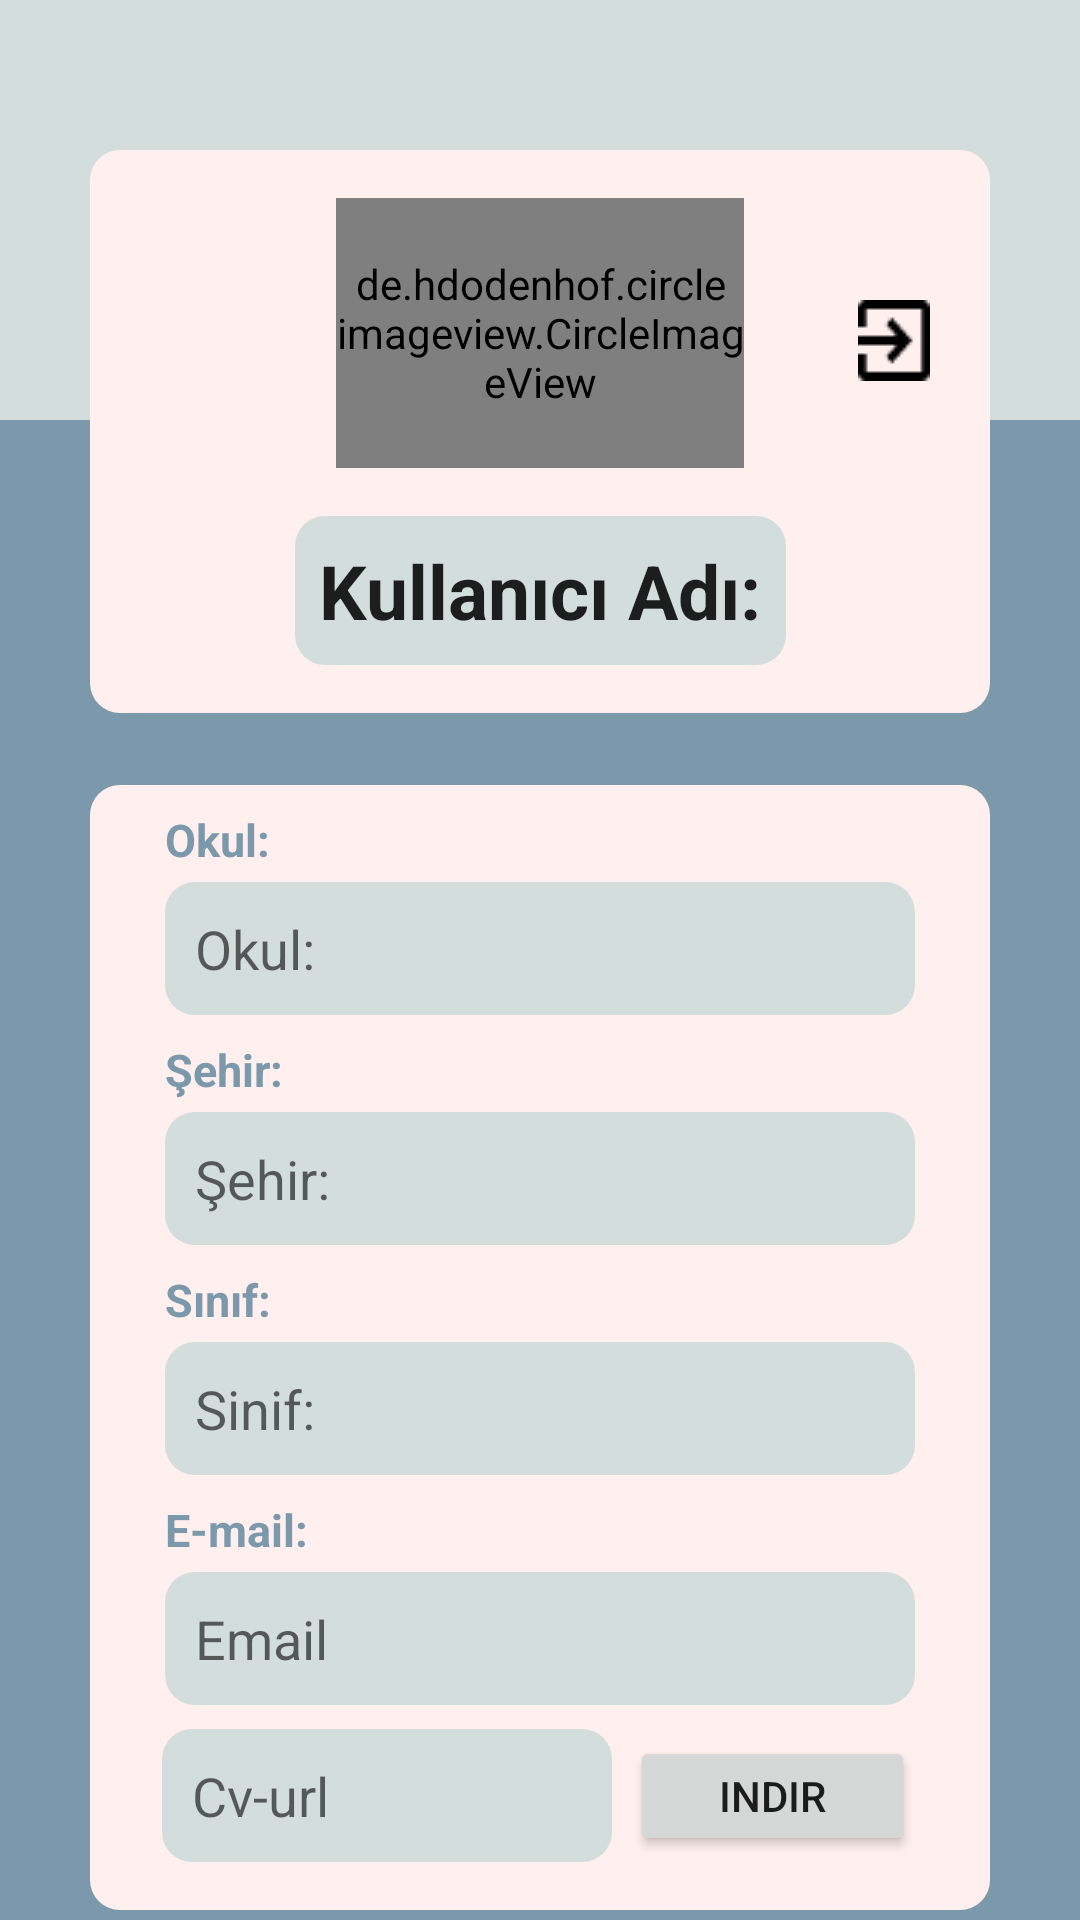

Where icons sit on this 1080x1920 app screen, as rect(x1, y1, x2, y2):
exit: rect(858, 300, 930, 381)
